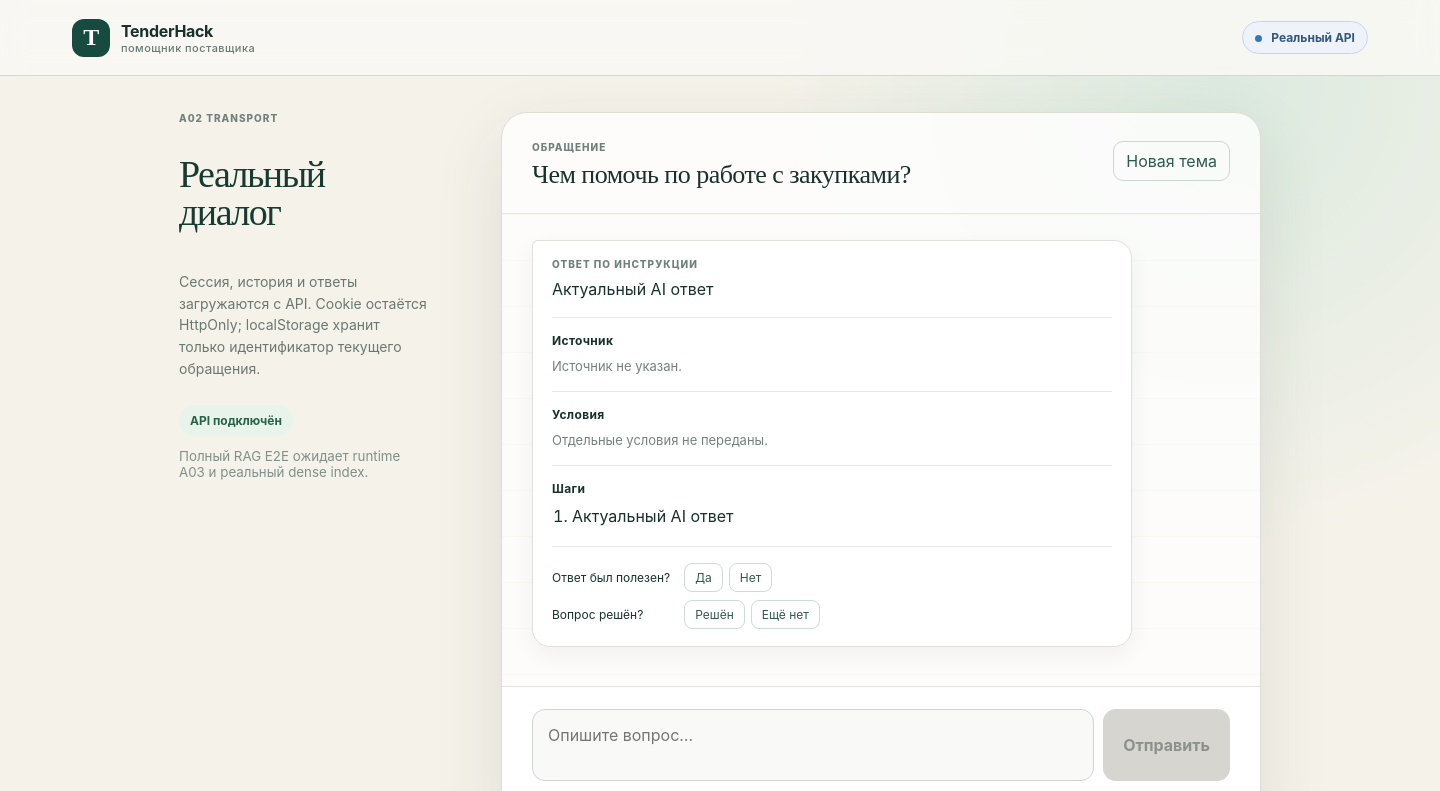
TenderHack real API UI › shows outcome_applied=false as saved feedback without claiming Case closure
The image size is (1440, 791).
Check: the text "Актуальный AI ответ" is shown 2 times, box [552,279,714,299]; [572,506,734,526]
Click the button "Решён". click: (714, 614)
box: [684,600,745,629]
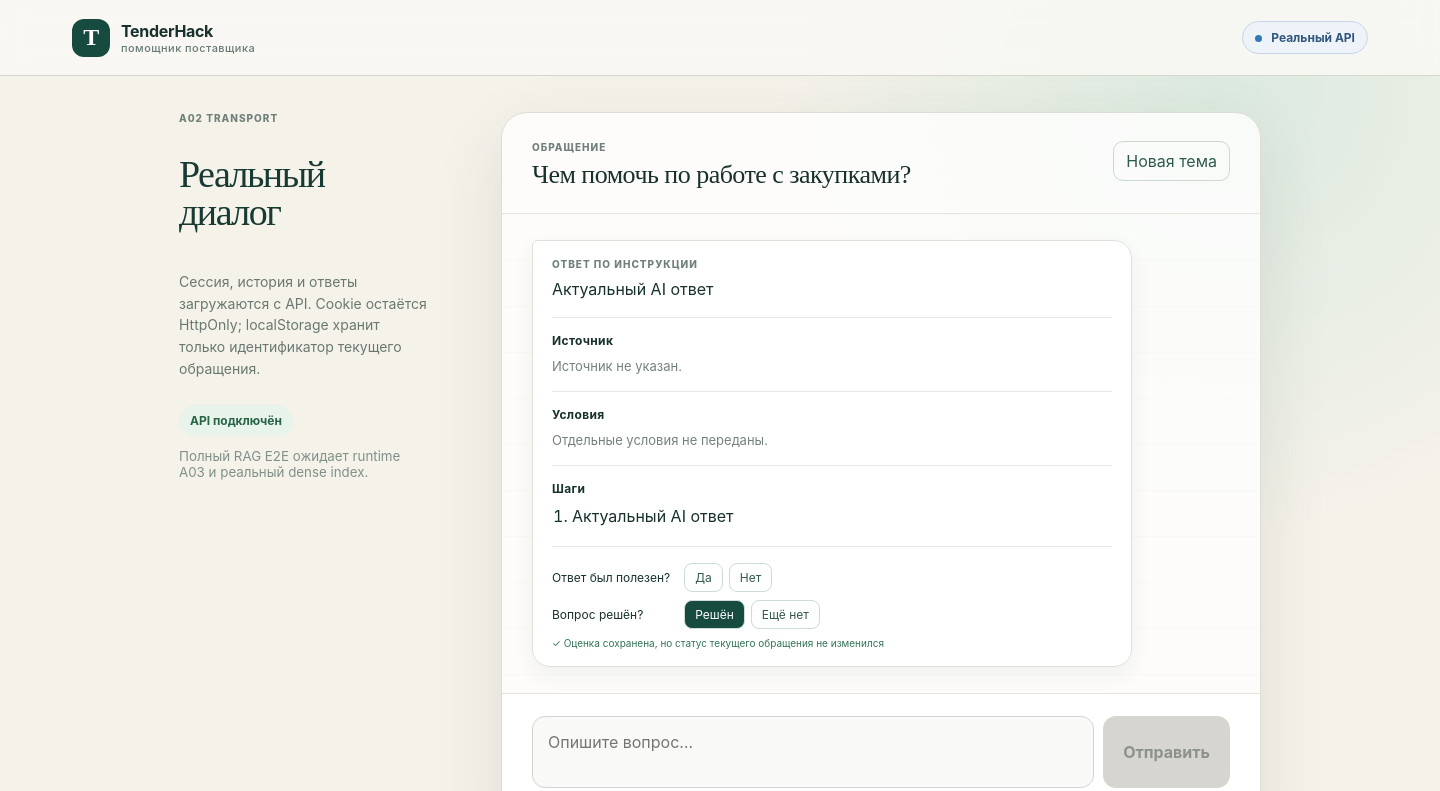
Check: the message shows "Оценка сохранена, но статус текущего обращения не изменился", box [564,637,884,649]
